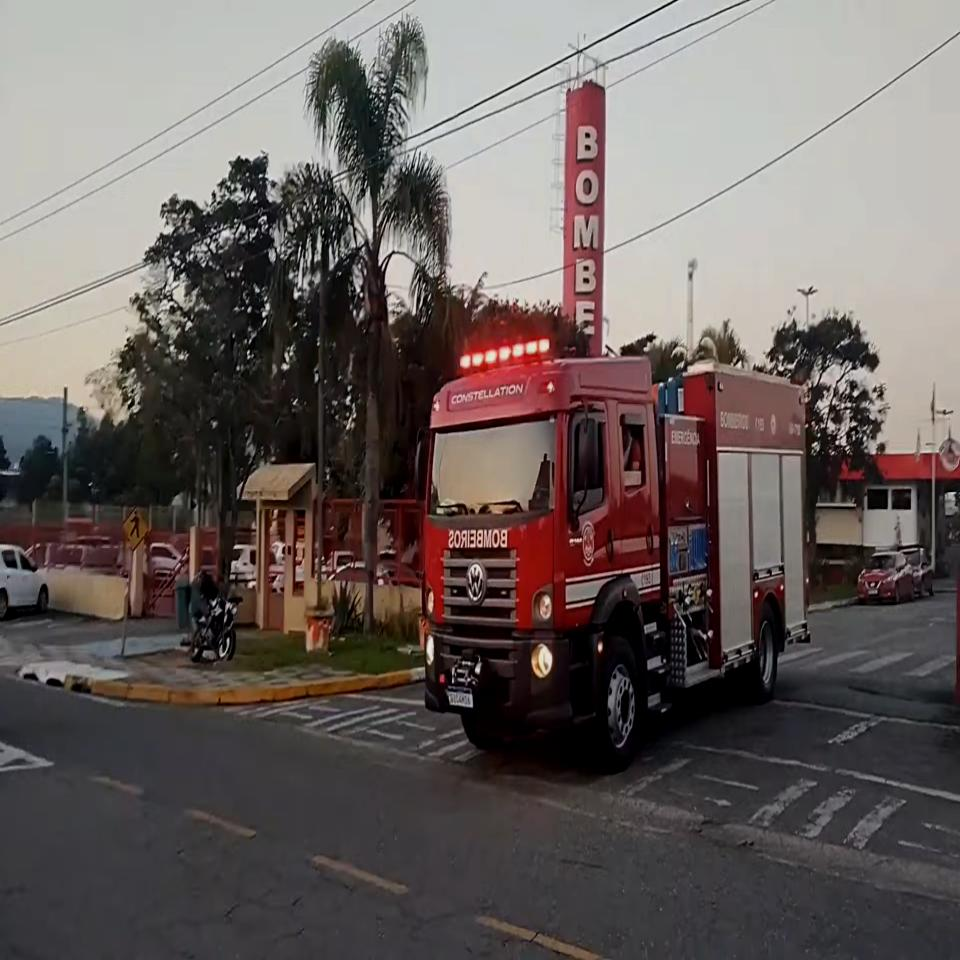bombeiro: (412, 340, 812, 770)
